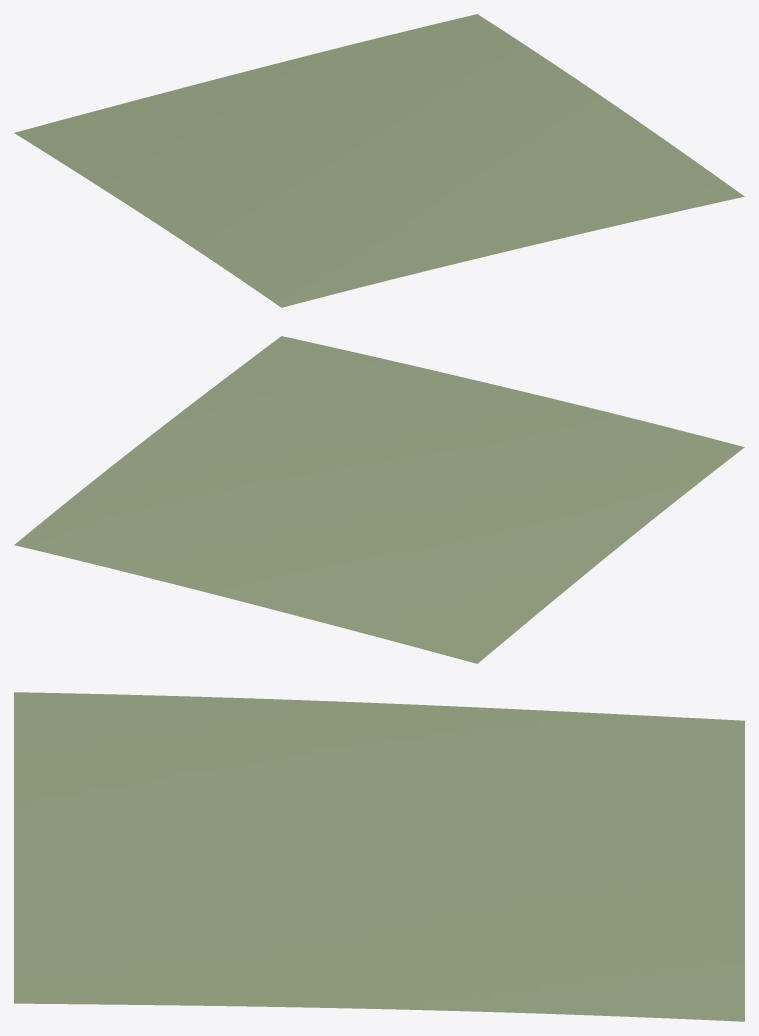
Rendered from expanse-22-12.glb.
3 renders of one model, top to bottom at view 1: azimuth 30°, elevation 25°; view 2: azimuth 150°, elevation 25°; view 3: azimuth 270°, elevation 25°, orthographic. The views are drawn at different scales.
Visible parts, largest first — view 1: expanse-22-12; view 2: expanse-22-12; view 3: expanse-22-12.
Part boxes in pixels (<box>): expanse-22-12: <box>14,14,744,307</box>; expanse-22-12: <box>14,336,744,663</box>; expanse-22-12: <box>14,692,744,1021</box>.
Bounding box in the file's own units: 256 × 11.88 × 256.
